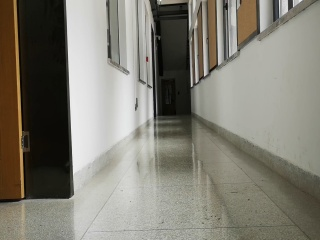room: (1, 4, 75, 200)
